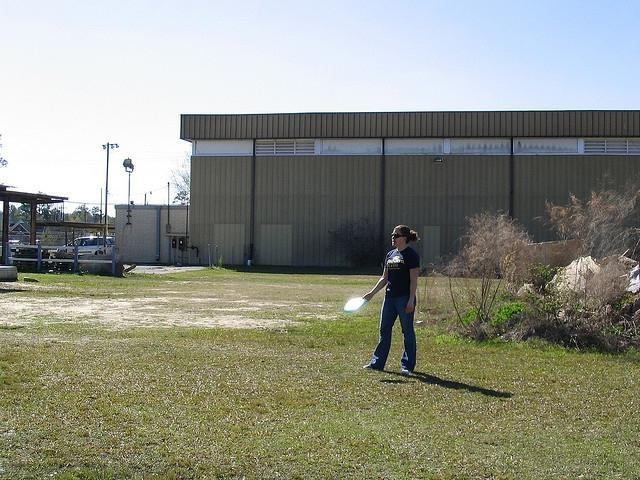car: (56, 236, 115, 256)
